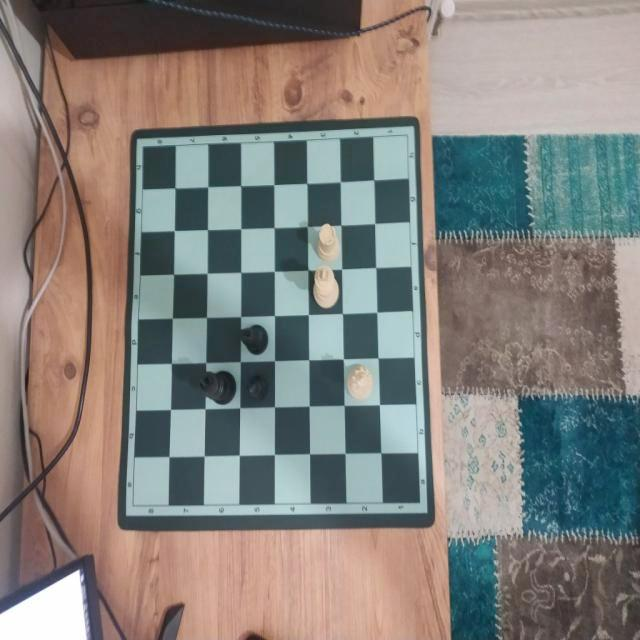chess-table-corners: (410, 489, 432, 521), (398, 120, 418, 149), (122, 495, 142, 523), (132, 133, 152, 157)
